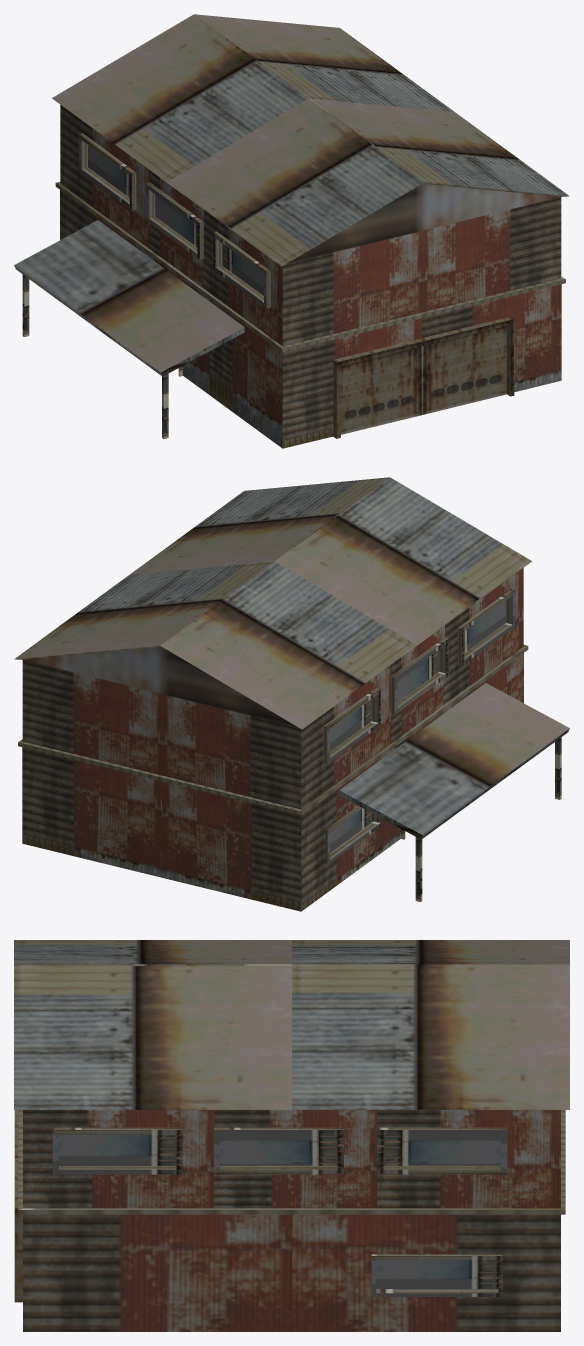
Rendered from 02_building_b.glb.
3 views of the same model, one above another, from view 1: azimuth 30°, elevation 25°; view 2: azimuth 150°, elevation 25°; view 3: azimuth 270°, elevation 25° (orthographic). The views are drawn at different scales.
Visible parts, largest first — view 1: Building02; view 2: Building02; view 3: Building02.
Boxes of the visible parts, x1,y1,x2,y2 form: Building02: (14,14,569,448); Building02: (14,477,569,911); Building02: (14,940,569,1331).
Size of the model in its own units: 27.95 by 17.17 by 30.3.
Materials: 1 (1 with a texture image).
